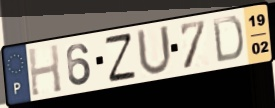6: (64, 42, 93, 87)
7: (179, 18, 209, 72)
D: (211, 14, 246, 65)
H: (26, 42, 64, 98)
U: (135, 23, 174, 78)
Z: (103, 30, 138, 84)
